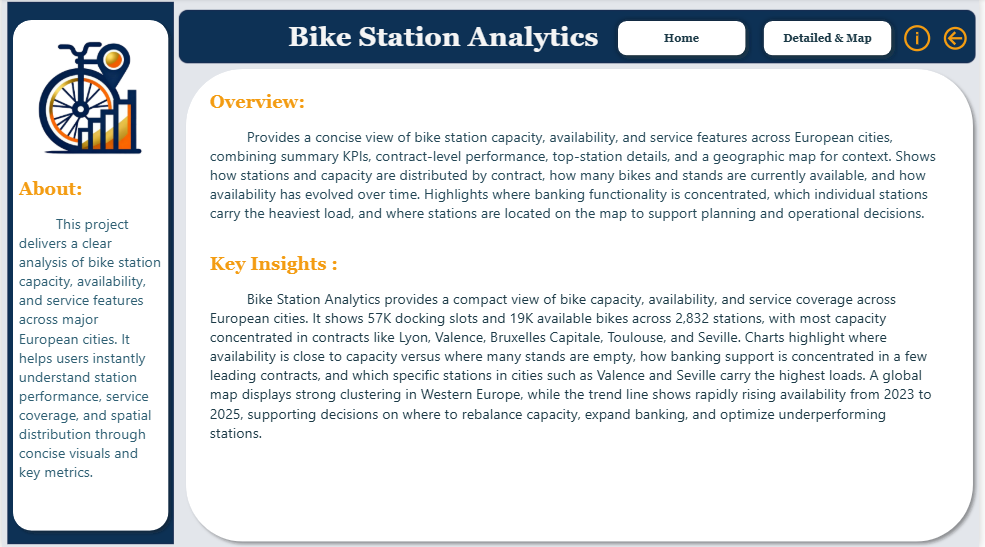

This screenshot's page, from the dashboard's own definition file:
{"tool":"powerbi","page":{"name":"FAQ","canvas":[1280,720],"ordinal":2},"visuals":[{"type":"image","title":"Pannel bg","box":[0,0,231.7,720],"z":0,"group":"g2"},{"type":"group","id":"g1","title":"Tile","box":[226.7,10,1053.3,80],"z":0},{"type":"image","box":[226.7,10,1053.3,80],"z":0,"group":"g1"},{"type":"actionButton","box":[1228.4,31.7,51.7,40],"z":500,"group":"g1"},{"type":"group","id":"g2","title":"Pannel","box":[0,0,231.7,720],"z":1000},{"type":"shape","box":[227.6,10,700,80],"z":1000,"group":"g1"},{"type":"shape","box":[5,20,221.7,686.7],"z":1000,"group":"g2"},{"type":"shape","box":[231.7,83.3,1048.3,636.7],"z":1500},{"type":"pageNavigator","box":[797.1,20,376.7,63.3],"z":2000,"group":"g1"},{"type":"image","title":"Logo","box":[16.7,31.7,196.7,198.3],"z":2000,"group":"g2"},{"type":"textbox","box":[266.7,116.7,961.7,603.3],"z":2000},{"type":"actionButton","title":"Info","box":[1175.5,30,48.3,45],"z":3000,"group":"g1"},{"type":"textbox","box":[16.7,230,196.7,441.7],"z":4000}]}

Visuals, with their boxes in screenshot pixels (x1, y1, x2, y2), scaled from the page's 1280x720 canvas onto the 985x547 screenshot:
"Pannel bg" image: select_region(0, 0, 178, 546)
"Tile" group: select_region(174, 8, 984, 68)
image: select_region(174, 8, 984, 68)
actionButton: select_region(945, 24, 984, 54)
"Pannel" group: select_region(0, 0, 178, 546)
shape: select_region(175, 8, 714, 68)
shape: select_region(4, 15, 174, 537)
shape: select_region(178, 63, 984, 546)
pageNavigator: select_region(613, 15, 903, 63)
"Logo" image: select_region(13, 24, 164, 175)
textbox: select_region(205, 89, 945, 546)
"Info" actionButton: select_region(905, 23, 942, 57)
textbox: select_region(13, 175, 164, 510)
